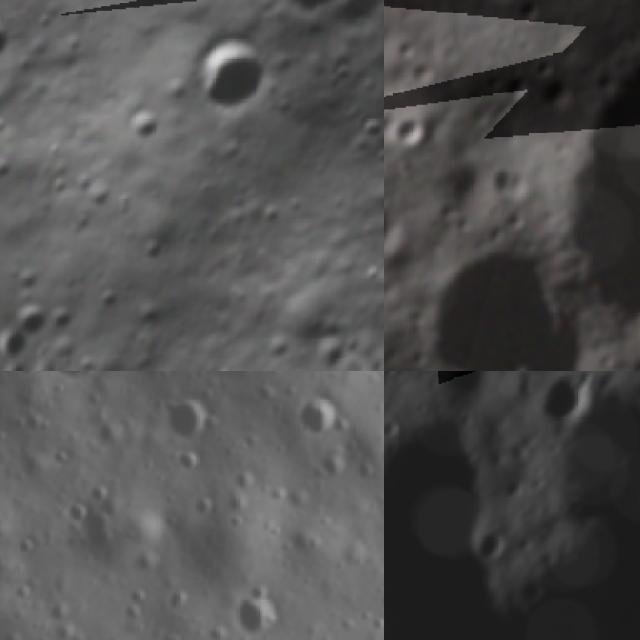crater: (518, 3, 640, 371), (389, 228, 592, 371), (531, 371, 640, 559), (164, 9, 295, 142), (520, 371, 607, 447), (384, 371, 408, 567), (107, 89, 174, 157), (428, 371, 507, 427), (245, 0, 371, 33), (464, 516, 524, 578), (316, 0, 384, 54), (384, 99, 443, 161), (296, 318, 359, 371), (220, 588, 283, 640), (71, 506, 124, 566), (481, 157, 541, 209), (285, 394, 350, 442), (158, 402, 222, 448), (494, 63, 542, 114), (384, 198, 419, 267), (5, 292, 53, 339), (0, 0, 27, 76), (537, 70, 581, 113), (345, 103, 384, 151), (526, 46, 569, 86), (460, 0, 540, 21), (508, 0, 557, 30), (384, 596, 409, 640), (384, 411, 407, 449), (105, 365, 172, 371)
